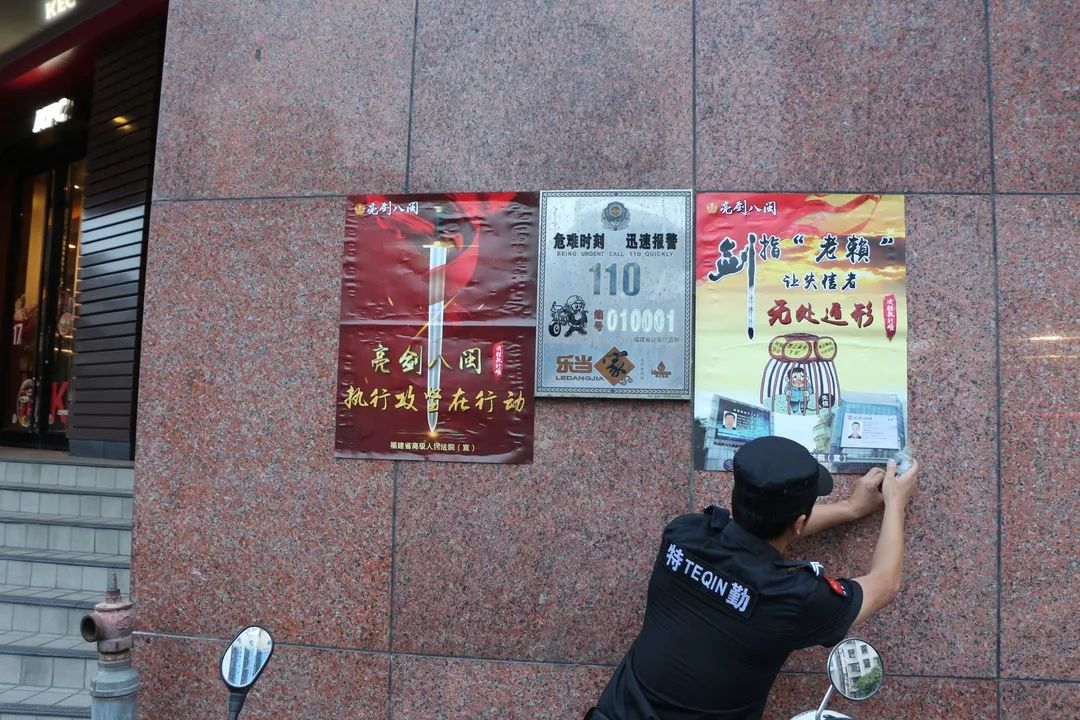bill: (692, 191, 910, 481), (337, 193, 537, 462), (539, 189, 694, 403)
